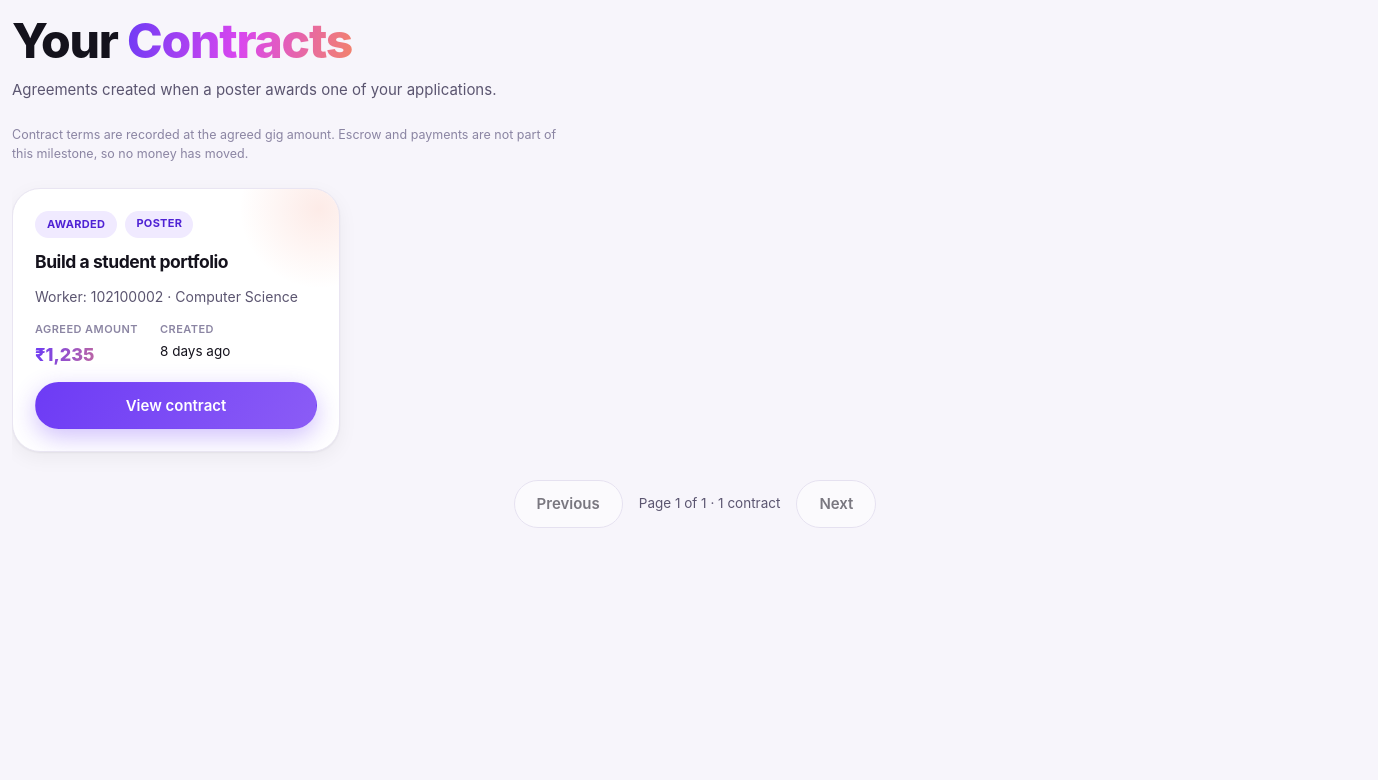
Test: contracts UI › renders participant context, frozen terms, and award history without future actions
Click the link "View contract". click: click(176, 406)
box: [35,382,317,429]
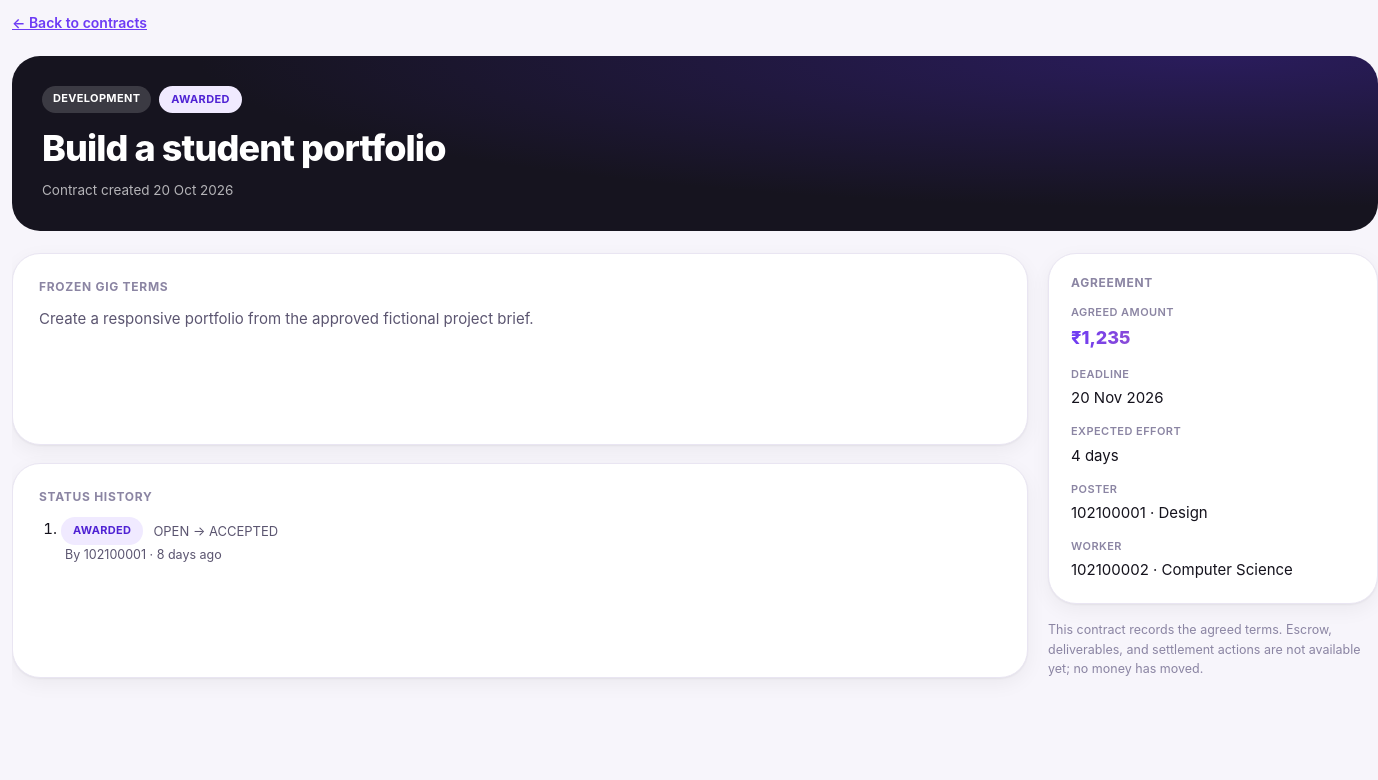
Expected: the heading "Build a student portfolio" is shown, [42,126,446,170]
Now the heading "Frozen gig terms" is shown, box [39,279,168,294]
Now the text "OPEN → ACCEPTED" is shown, box [153,521,278,541]
